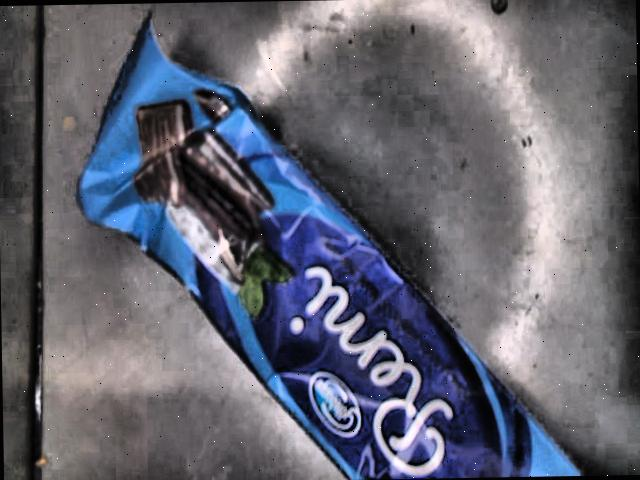Plastic: (75, 10, 581, 480)
